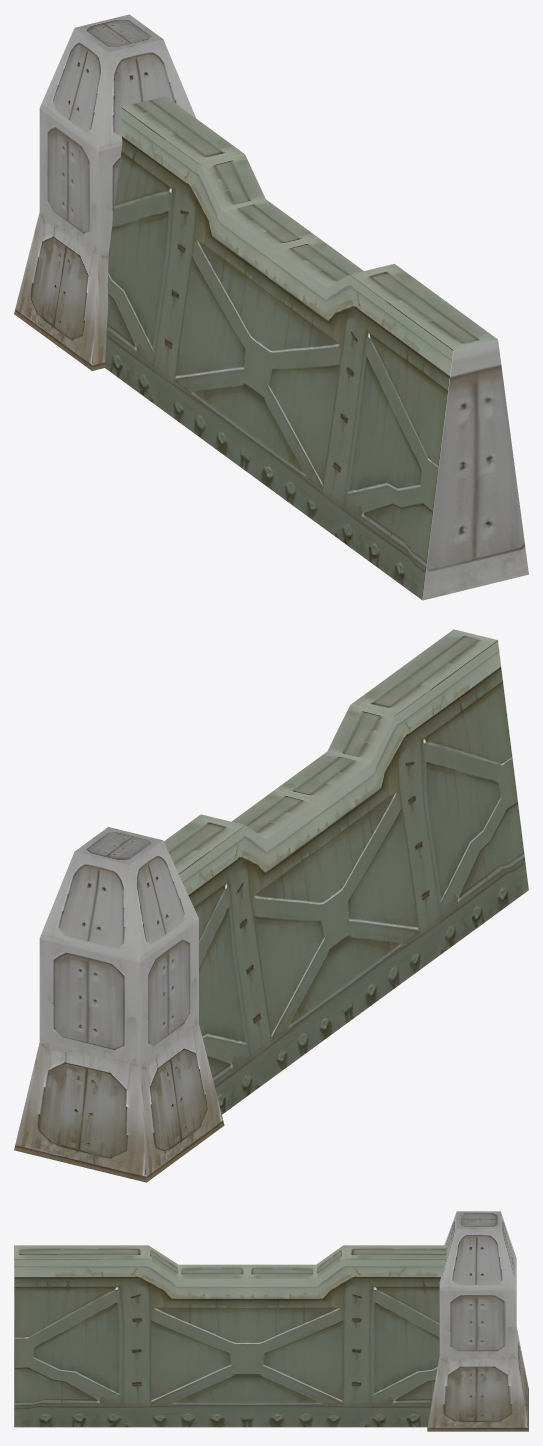
File: l_mediumwall_hdtex.glb
The picture shows the model from 3 angles, top to bottom: view 1: azimuth 30°, elevation 25°; view 2: azimuth 150°, elevation 25°; view 3: azimuth 270°, elevation 25°; orthographic projection. The views are drawn at different scales.
Visible parts, largest first — view 1: L_MediumWall; view 2: L_MediumWall; view 3: L_MediumWall.
Part boxes in pixels (box(x1,y1,x2,y2)): L_MediumWall: box(14, 14, 528, 600); L_MediumWall: box(14, 629, 528, 1182); L_MediumWall: box(14, 1211, 528, 1431).
Bounding box in the file's own units: 5.49 × 11.57 × 28.36.
1 material, 1 textured.
